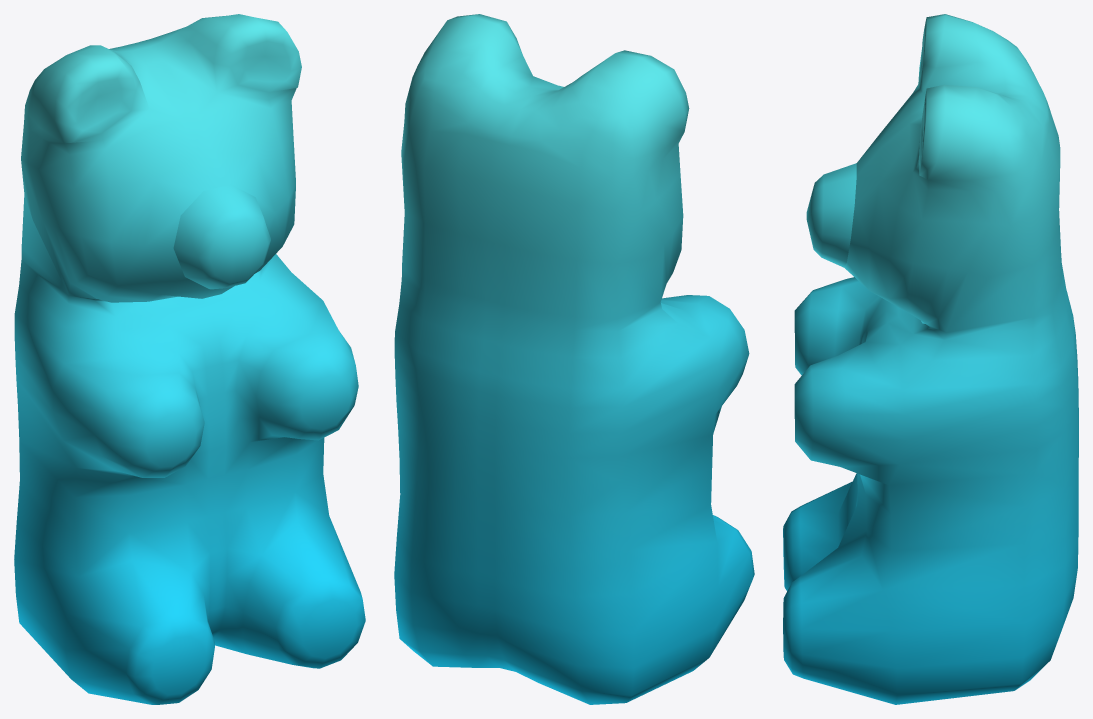
The model's file is Gummy_Bear_01.fbx.
The picture shows the model from 3 angles, left to right: view 1: azimuth 30°, elevation 25°; view 2: azimuth 150°, elevation 25°; view 3: azimuth 270°, elevation 25°; orthographic projection. The views are drawn at different scales.
Visible parts, largest first — view 1: Gummy_Bear_01; view 2: Gummy_Bear_01; view 3: Gummy_Bear_01.
Boxes of the visible parts, left/top/right/bottom form: Gummy_Bear_01: left=14, top=14, right=365, bottom=704; Gummy_Bear_01: left=394, top=14, right=754, bottom=704; Gummy_Bear_01: left=783, top=14, right=1078, bottom=704.
Size of the model in its own units: 97.58 by 207 by 92.19.
